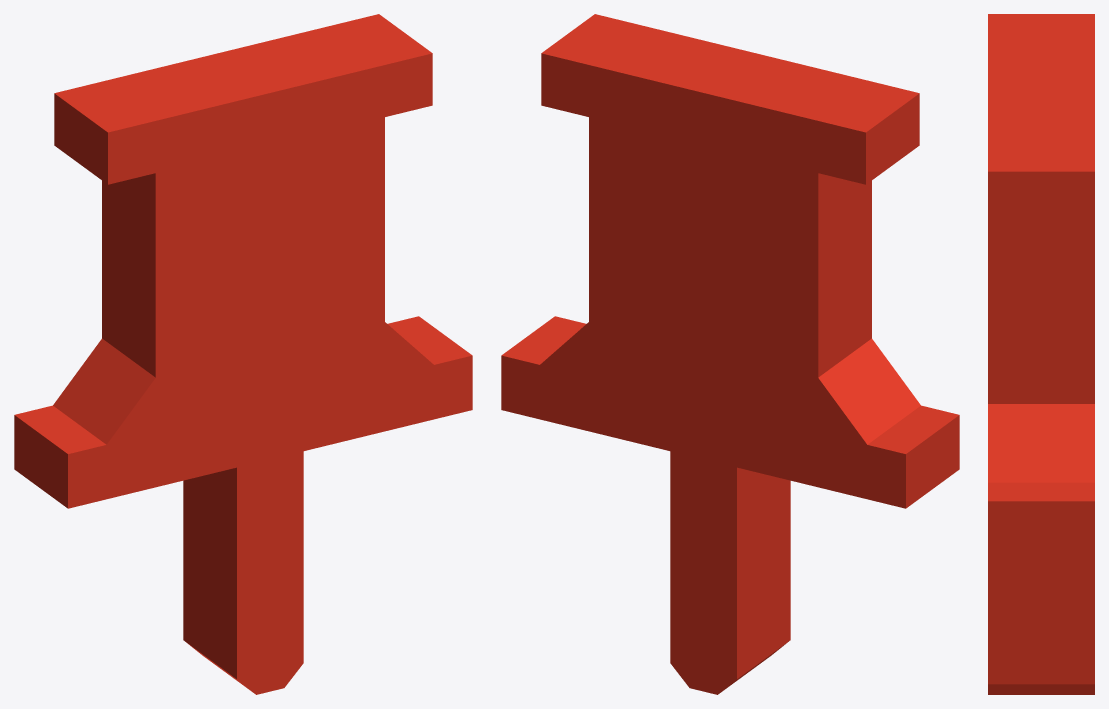
The model's file is Icon_Pin.fbx.
3 views of the same model, side by side, from view 1: azimuth 30°, elevation 25°; view 2: azimuth 150°, elevation 25°; view 3: azimuth 270°, elevation 25° (orthographic).
Parts seen in each view (by area): view 1: Icon_Pin; view 2: Icon_Pin; view 3: Icon_Pin.
Part boxes in pixels (x1=…): Icon_Pin: x1=14, y1=14, x2=472, y2=694; Icon_Pin: x1=501, y1=14, x2=959, y2=694; Icon_Pin: x1=988, y1=14, x2=1094, y2=694.
Bounding box in the file's own units: 52.43 × 74.14 × 12.06.
